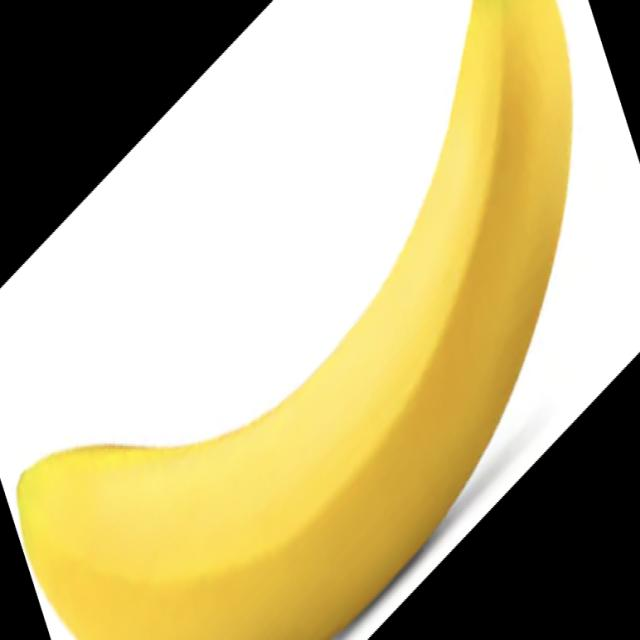god quality banana: (17, 2, 572, 638)
